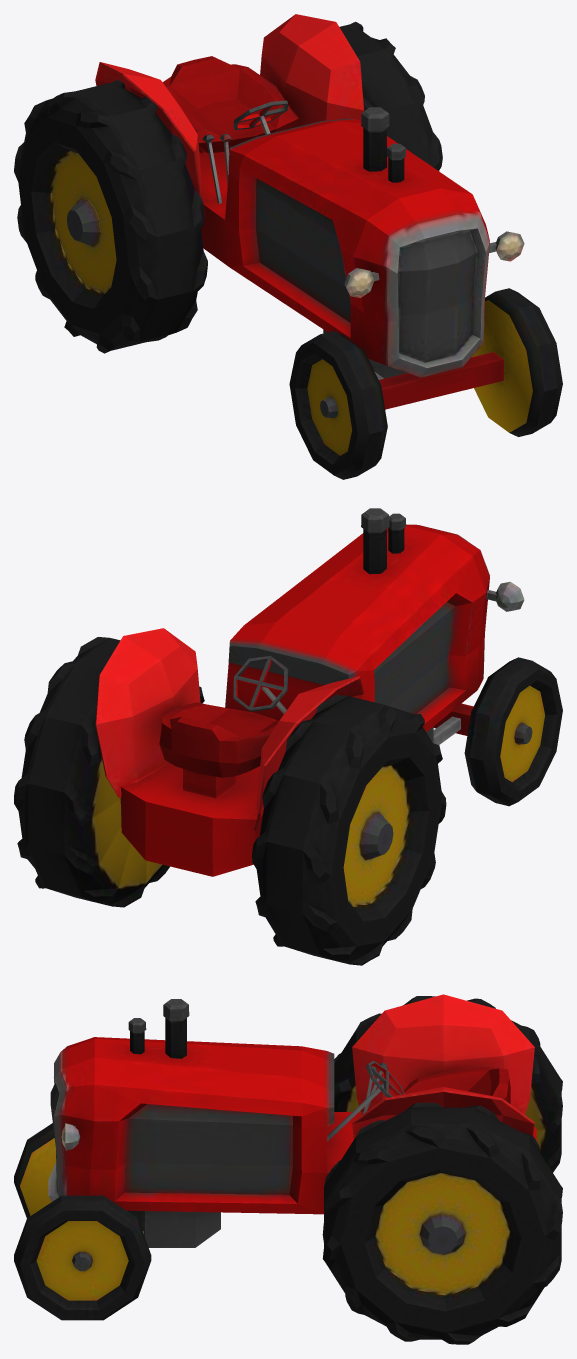
File: kure.glb
The picture shows the model from 3 angles, top to bottom: view 1: azimuth 30°, elevation 25°; view 2: azimuth 150°, elevation 25°; view 3: azimuth 270°, elevation 25°; orthographic projection. The views are drawn at different scales.
Visible parts, largest first — view 1: Tractor_mesh; view 2: Tractor_mesh; view 3: Tractor_mesh.
Part boxes in pixels (bbox=[...]): Tractor_mesh: bbox=[14, 14, 562, 479]; Tractor_mesh: bbox=[14, 508, 562, 965]; Tractor_mesh: bbox=[14, 994, 562, 1344].
Bounding box in the file's own units: 9.35 × 8.62 × 15.49.
1 material, 1 textured.
